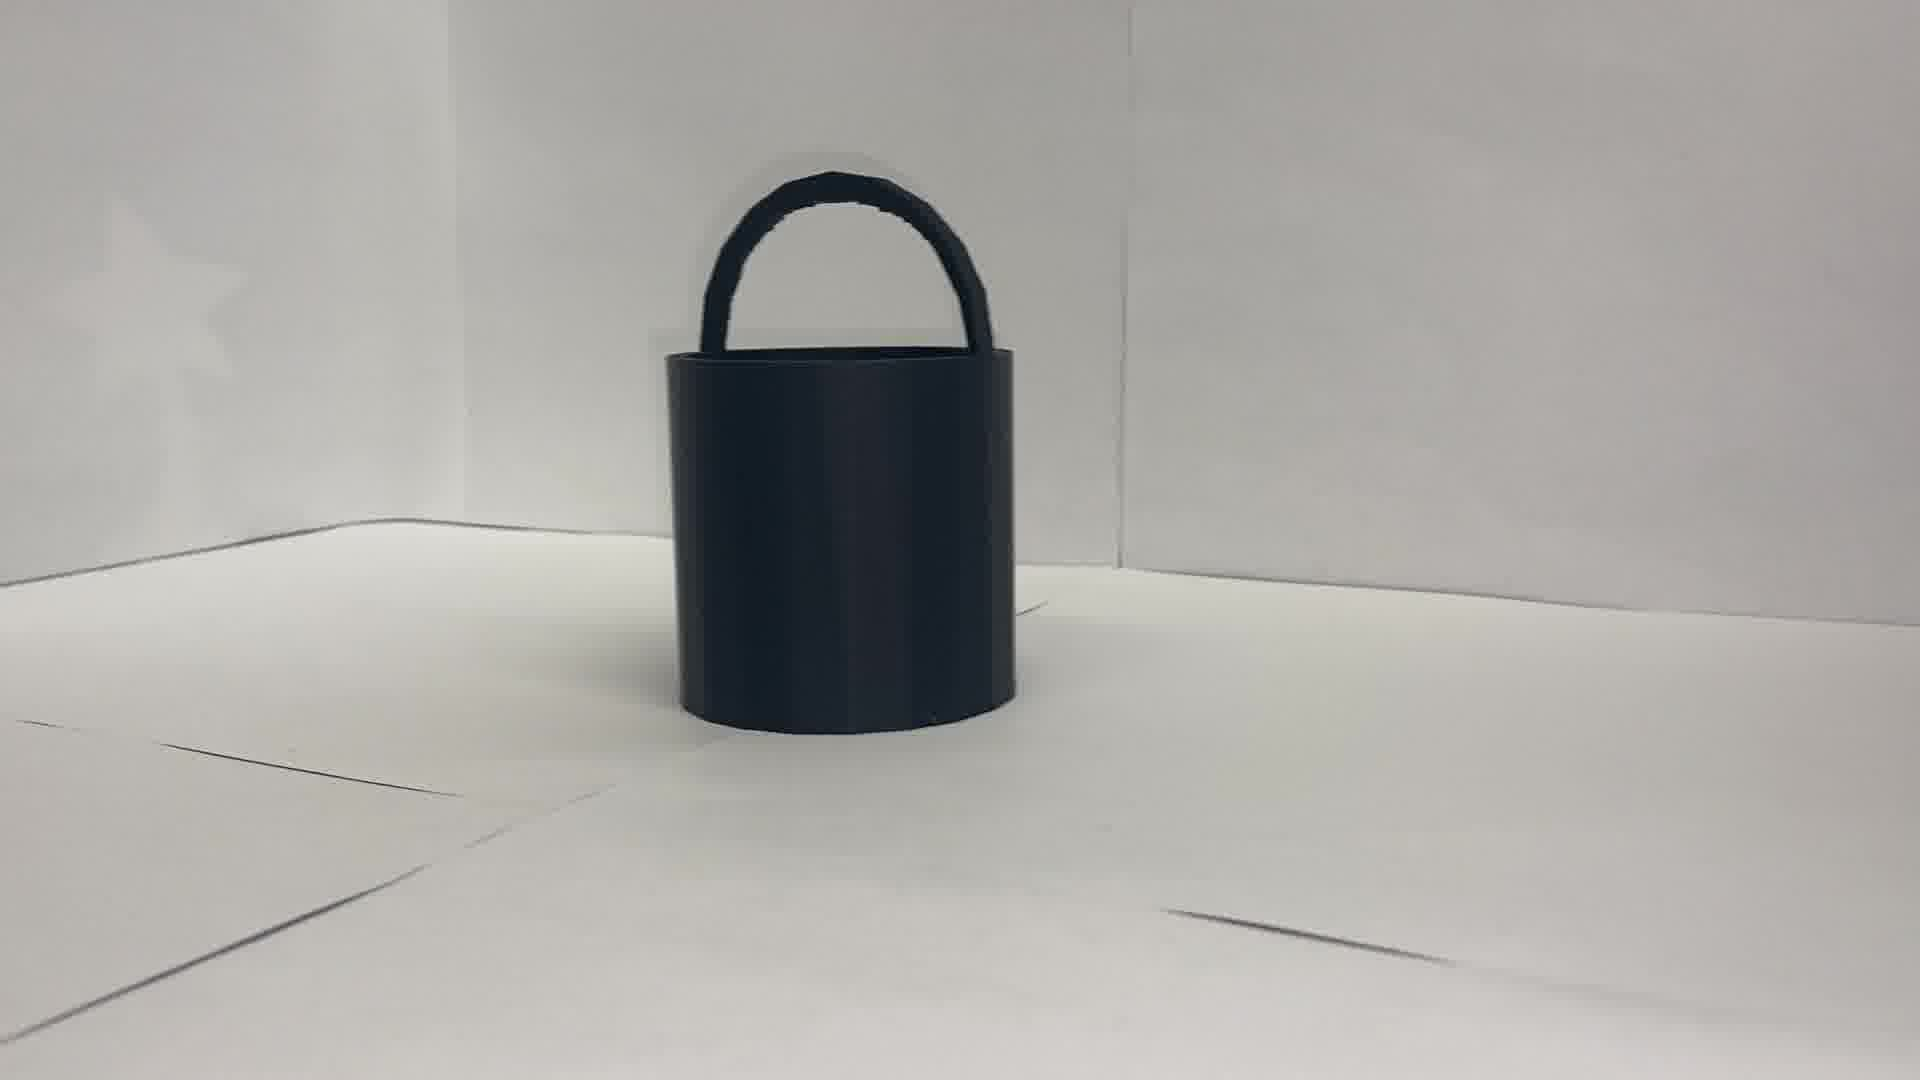bag: (653, 170, 1029, 737)
